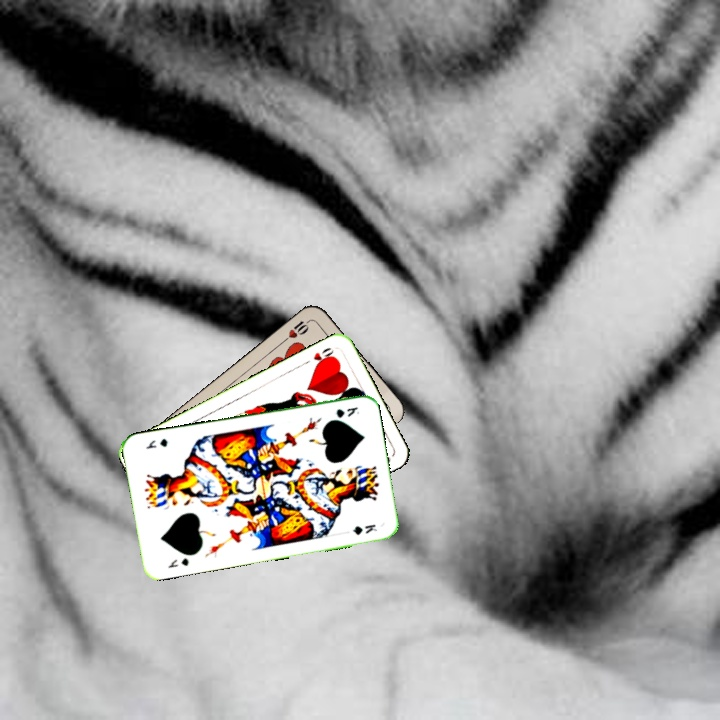GK: (332, 403, 360, 421), (164, 554, 191, 571)
H10: (279, 315, 314, 344)
HO: (300, 343, 337, 369)
